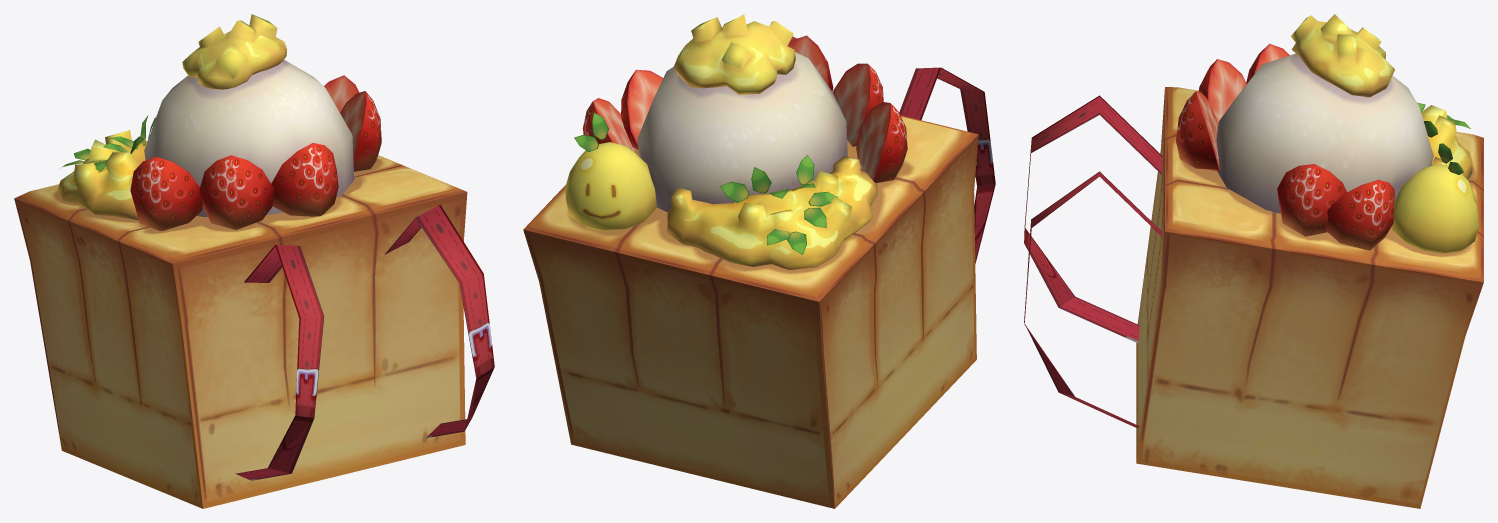
Rendered from acc_back0079.fbx.
3 renders of one model, left to right at view 1: azimuth 30°, elevation 25°; view 2: azimuth 150°, elevation 25°; view 3: azimuth 270°, elevation 25°, orthographic.
Parts seen in each view (by area): view 1: acc_back0079_m; view 2: acc_back0079_m; view 3: acc_back0079_m.
Part boxes in pixels (x1,y1,x2,y2): acc_back0079_m: [14, 14, 494, 508]; acc_back0079_m: [523, 14, 995, 508]; acc_back0079_m: [1024, 14, 1483, 508].
Bounding box in the file's own units: 0.3883 × 0.5401 × 0.5218.
